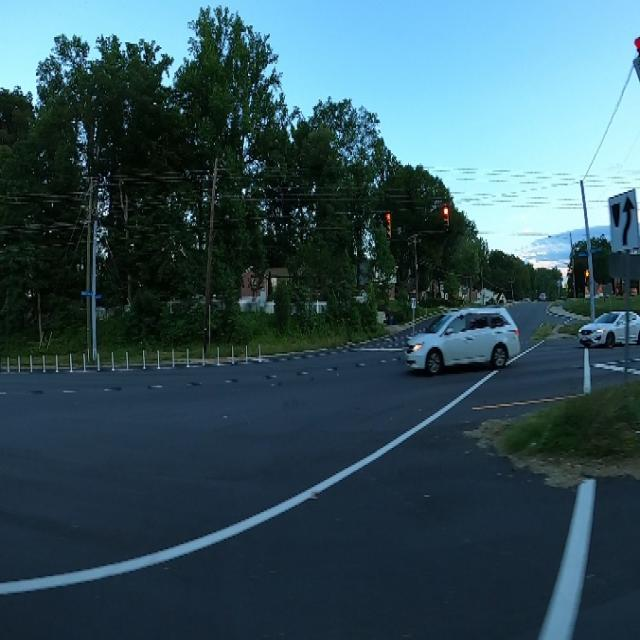cars: (403, 308, 522, 382), (576, 305, 640, 356)
